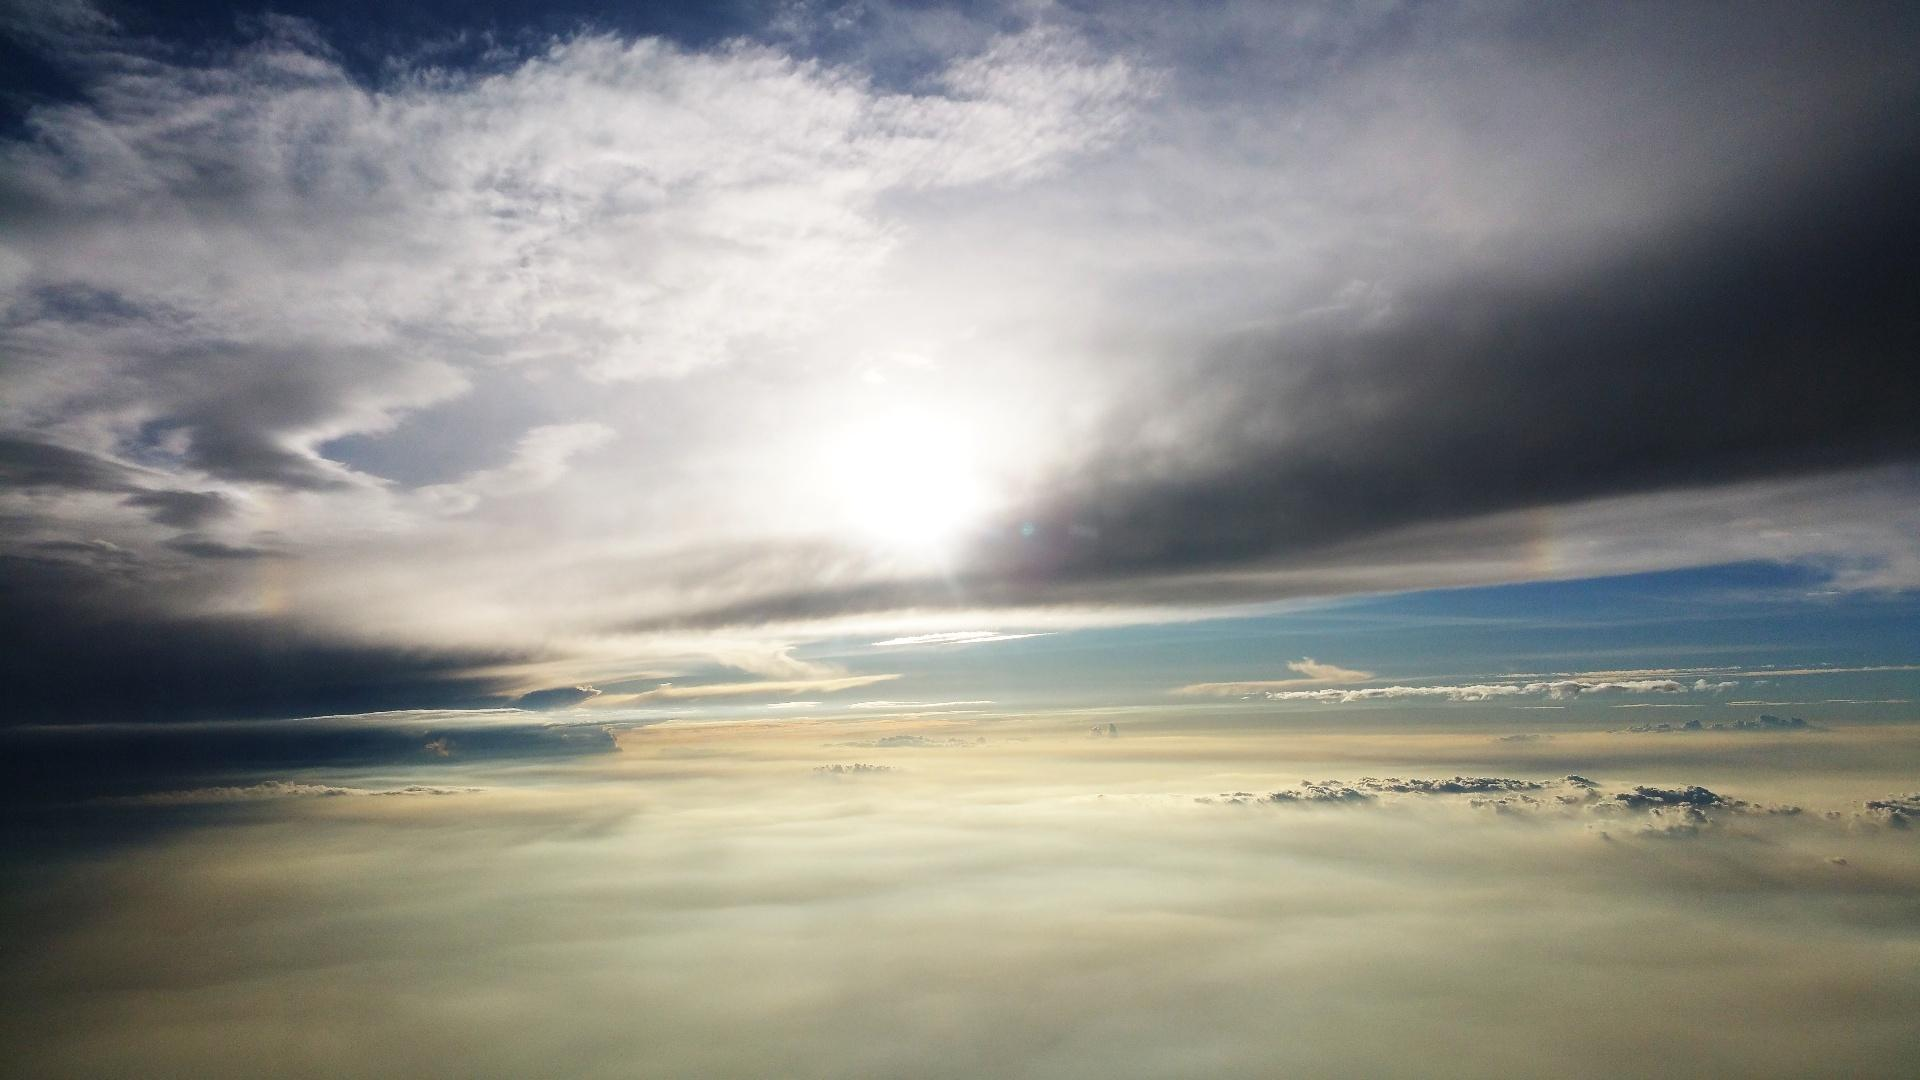glass: (1207, 688, 1425, 1080)
